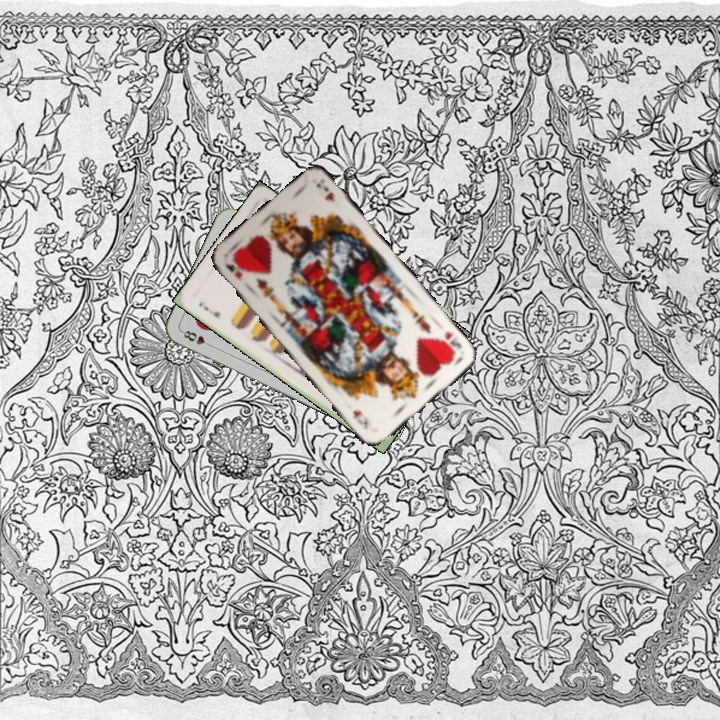E7: (195, 297, 223, 320)
H8: (178, 326, 216, 350)
HK: (438, 327, 465, 360), (221, 259, 245, 283)
